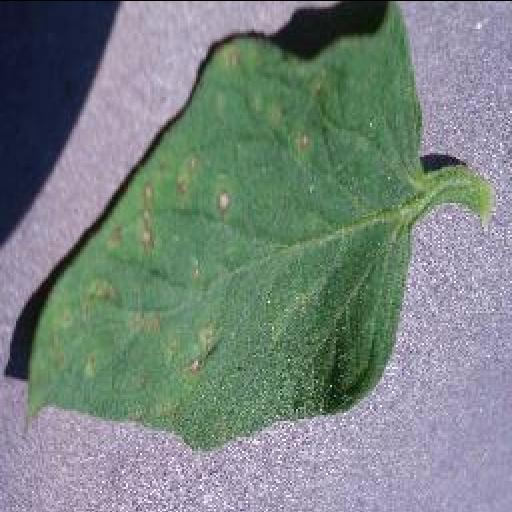disease_tomato: (17, 3, 423, 445)
